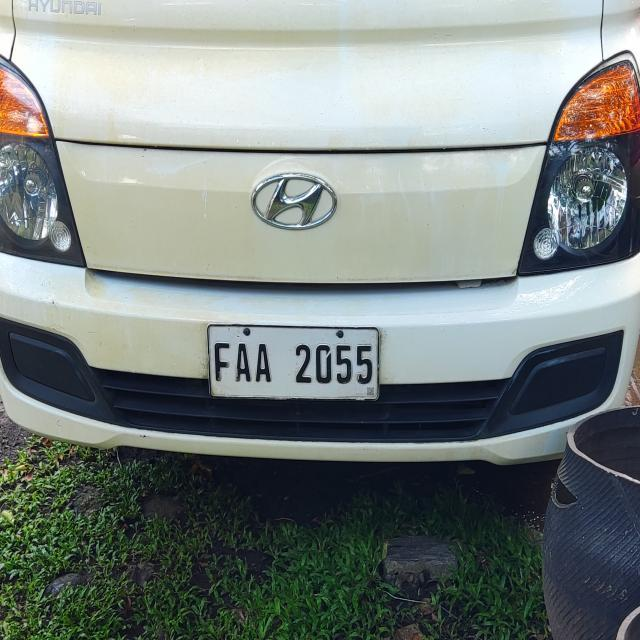LicensePlate: (192, 314, 393, 409)
